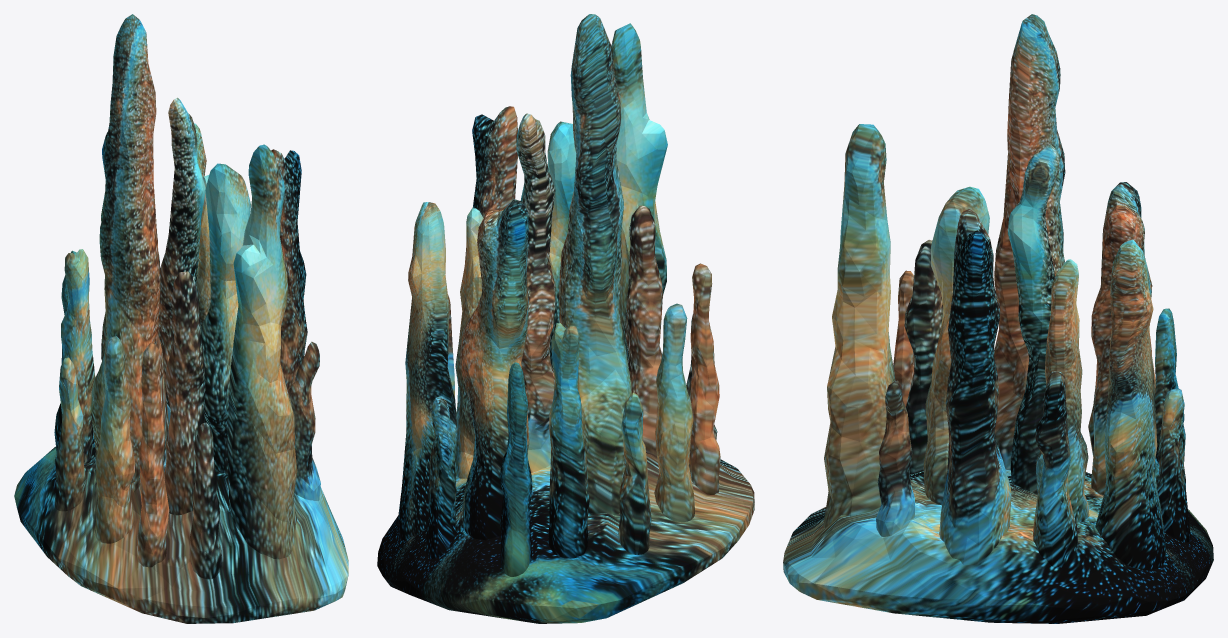
File: fishtank_pillarcoral2.dae
3 renders of one model, left to right at view 1: azimuth 30°, elevation 25°; view 2: azimuth 150°, elevation 25°; view 3: azimuth 270°, elevation 25°, orthographic. The views are drawn at different scales.
Visible parts, largest first — view 1: _0944_Pillar_Coral_v1_001_001; view 2: _0944_Pillar_Coral_v1_001_001; view 3: _0944_Pillar_Coral_v1_001_001.
Part boxes in pixels (bbox=[...]): _0944_Pillar_Coral_v1_001_001: bbox=[14, 14, 348, 623]; _0944_Pillar_Coral_v1_001_001: bbox=[377, 14, 754, 623]; _0944_Pillar_Coral_v1_001_001: bbox=[783, 14, 1213, 623].
Bounding box in the file's own units: 72.6 × 104 × 141.
Materials: 1 (1 with a texture image).
